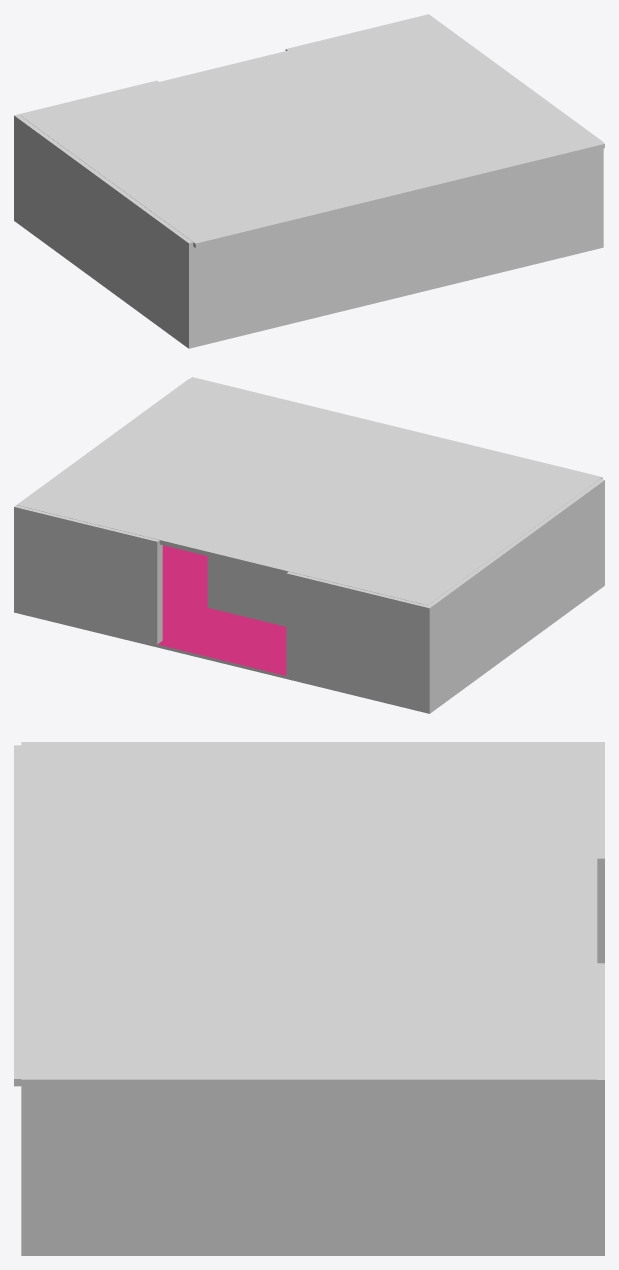
Rendered from gallary.fbx.
The picture shows the model from 3 angles, top to bottom: view 1: azimuth 30°, elevation 25°; view 2: azimuth 150°, elevation 25°; view 3: azimuth 270°, elevation 25°; orthographic projection. The views are drawn at different scales.
Visible parts, largest first — view 1: Cube.001, Cube; view 2: Cube.001, Cube; view 3: Cube.001, Cube.
Part boxes in pixels (x1=…): Cube.001: x1=21, y1=16, x2=604, y2=247; Cube: x1=14, y1=14, x2=603, y2=348; Cube.001: x1=17, y1=377, x2=602, y2=605; Cube: x1=14, y1=378, x2=604, y2=713; Cube.001: x1=14, y1=745, x2=597, y2=1086; Cube: x1=21, y1=742, x2=604, y2=1255.
Size of the model in its own units: 2950 by 718 by 2181.
